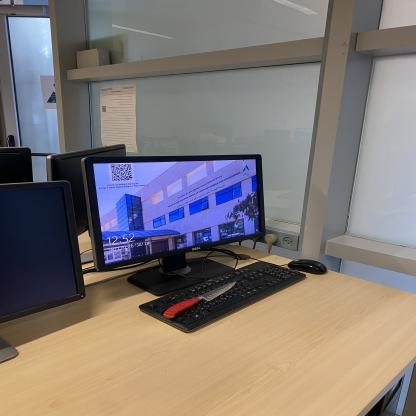Knife: (162, 281, 236, 320)
